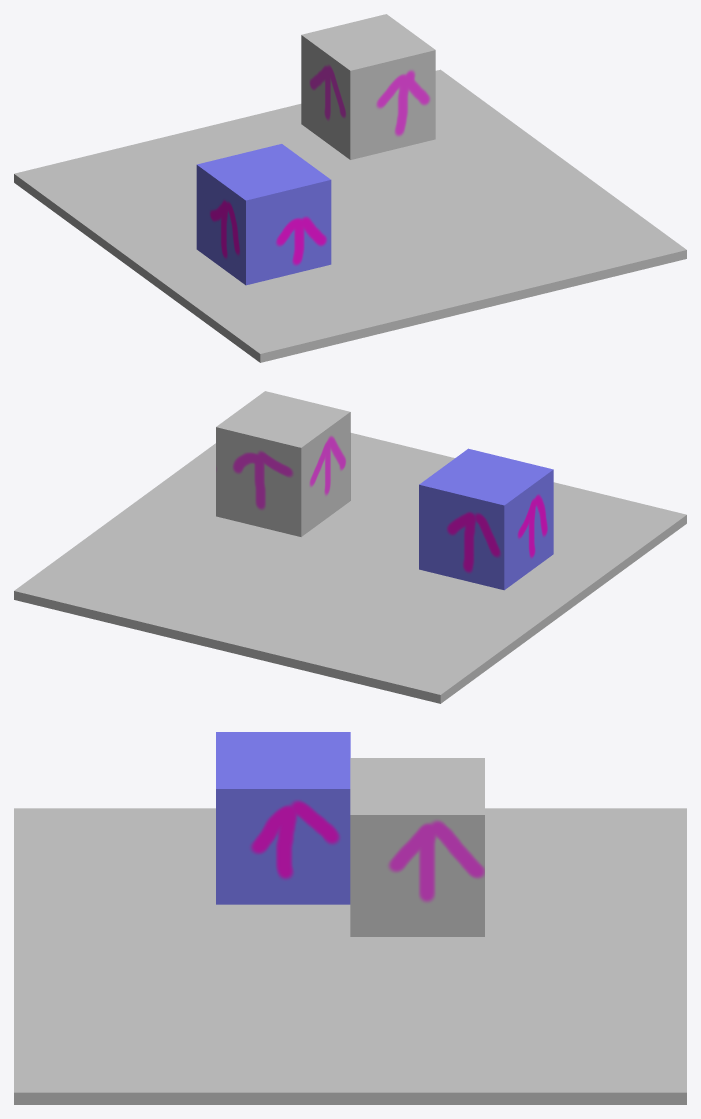
File: Pelimaailma.fbx
3 views of the same model, one above another, from view 1: azimuth 30°, elevation 25°; view 2: azimuth 150°, elevation 25°; view 3: azimuth 270°, elevation 25° (orthographic). The views are drawn at different scales.
Parts seen in each view (by area): view 1: Lattia, Yla_kuutio, Ala_kuutio; view 2: Lattia, Yla_kuutio, Ala_kuutio; view 3: Lattia, Yla_kuutio, Ala_kuutio.
Boxes of the visible parts, x1,y1,x2,y2 form: Lattia: (14, 69, 686, 362); Yla_kuutio: (301, 14, 435, 159); Ala_kuutio: (196, 144, 331, 285); Lattia: (14, 433, 686, 703); Yla_kuutio: (216, 391, 350, 536); Ala_kuutio: (419, 448, 553, 590); Lattia: (14, 808, 686, 1104); Yla_kuutio: (350, 758, 484, 936); Ala_kuutio: (216, 732, 350, 904).
Size of the model in its own units: 1000 by 336 by 1000.
